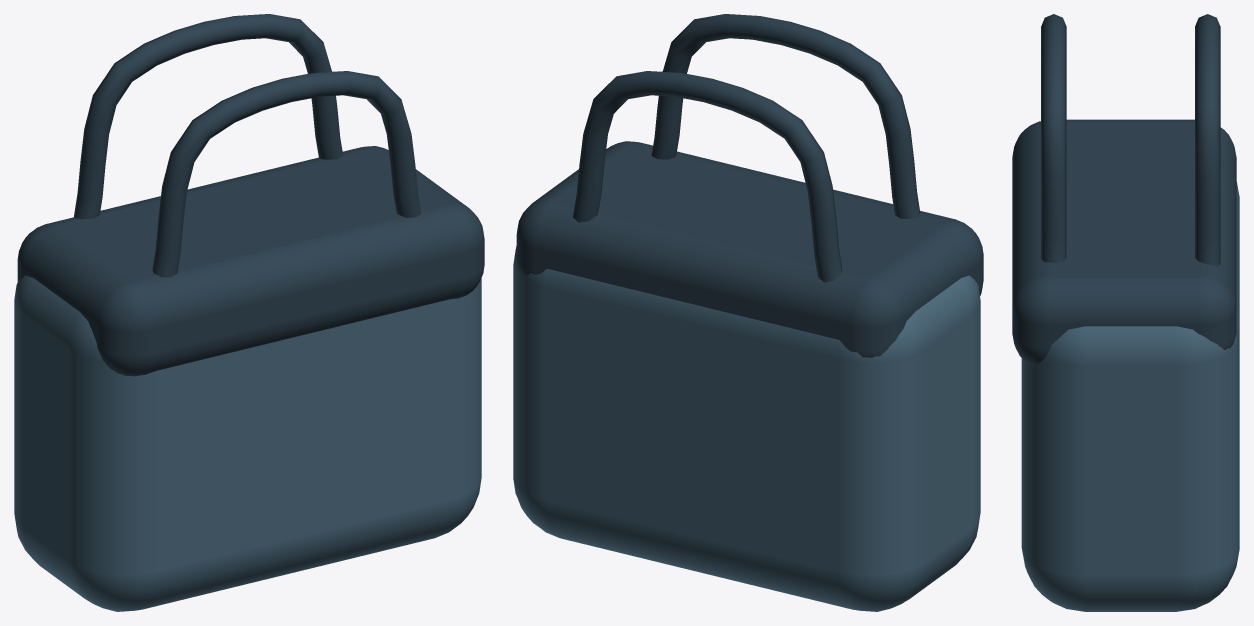
File: babyBag.glb
3 renders of one model, left to right at view 1: azimuth 30°, elevation 25°; view 2: azimuth 150°, elevation 25°; view 3: azimuth 270°, elevation 25°, orthographic.
Parts seen in each view (by area): view 1: bag, flap, handles; view 2: bag, flap, handles; view 3: bag, flap, handles.
Part boxes in pixels (x1,y1,x2,y2): bag: [14, 275, 481, 611]; flap: [17, 146, 484, 376]; handles: [74, 14, 421, 277]; bag: [513, 246, 980, 611]; flap: [516, 141, 983, 357]; handles: [572, 14, 920, 282]; bag: [1021, 182, 1239, 611]; flap: [1012, 119, 1236, 365]; handles: [1041, 14, 1220, 266].
Size of the model in its own units: 0.36 by 0.4282 by 0.1775.
